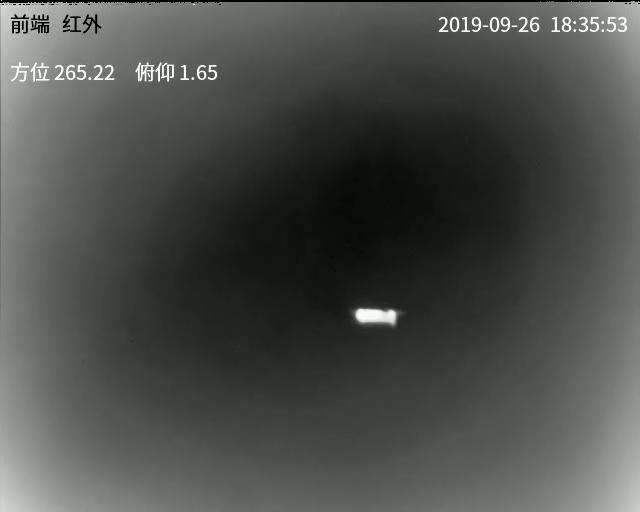uav: (352, 301, 407, 328)
